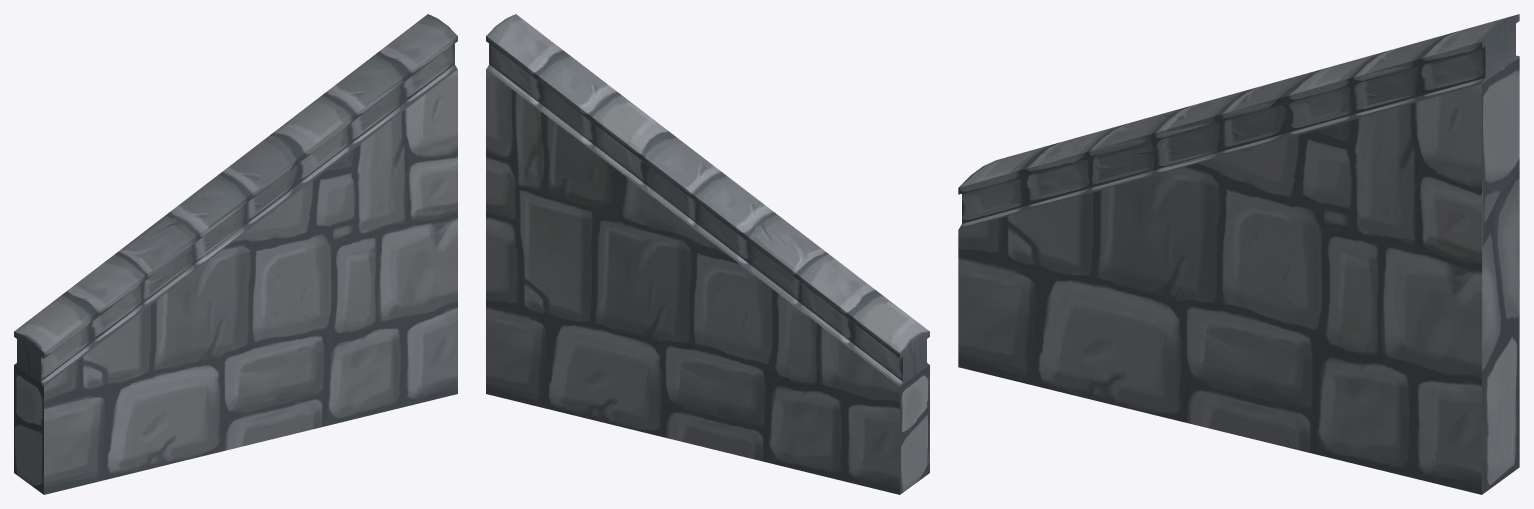
The model's file is stairfence.fbx.
3 views of the same model, side by side, from view 1: azimuth 30°, elevation 25°; view 2: azimuth 150°, elevation 25°; view 3: azimuth 330°, elevation 25° (orthographic). The views are drawn at different scales.
Visible parts, largest first — view 1: StairFence.001; view 2: StairFence.001; view 3: StairFence.001.
Part boxes in pixels (x1,y1,x2,y2): StairFence.001: (14,14,457,494); StairFence.001: (486,14,929,494); StairFence.001: (958,14,1519,494).
Size of the model in its own units: 50 by 400 by 333.
